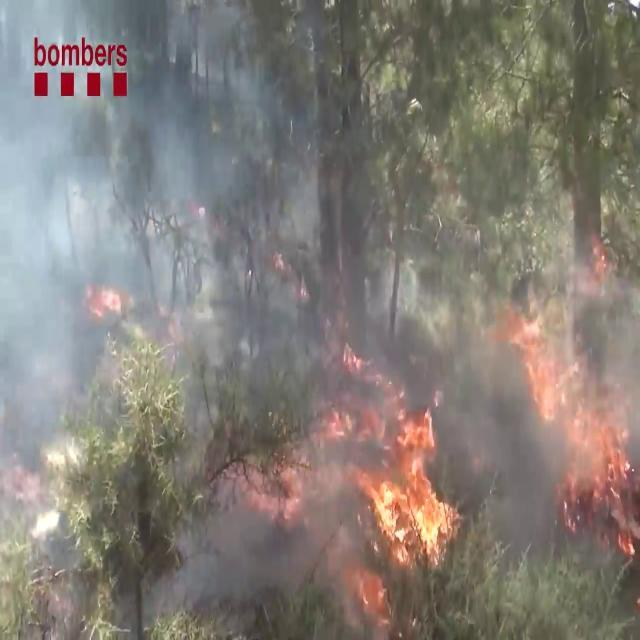Fire: (507, 290, 635, 524), (347, 390, 465, 608)
Smoke: (0, 2, 252, 480)
